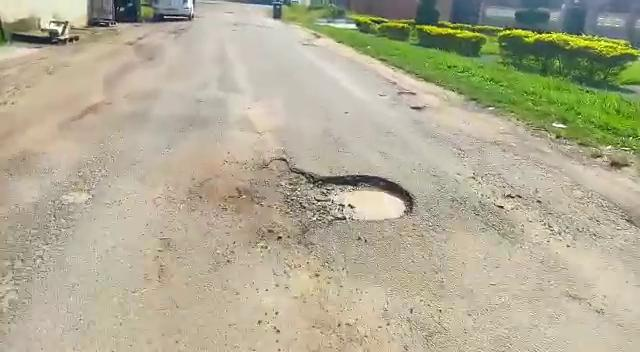pothole: (250, 160, 424, 228)
